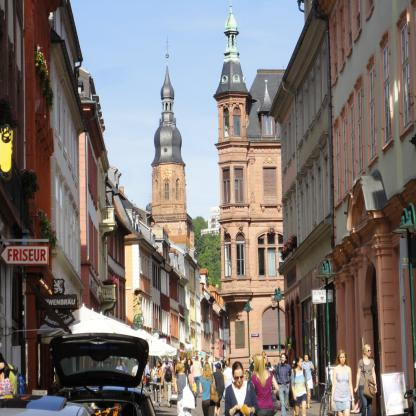Car: (48, 330, 156, 416), (0, 394, 92, 416)
